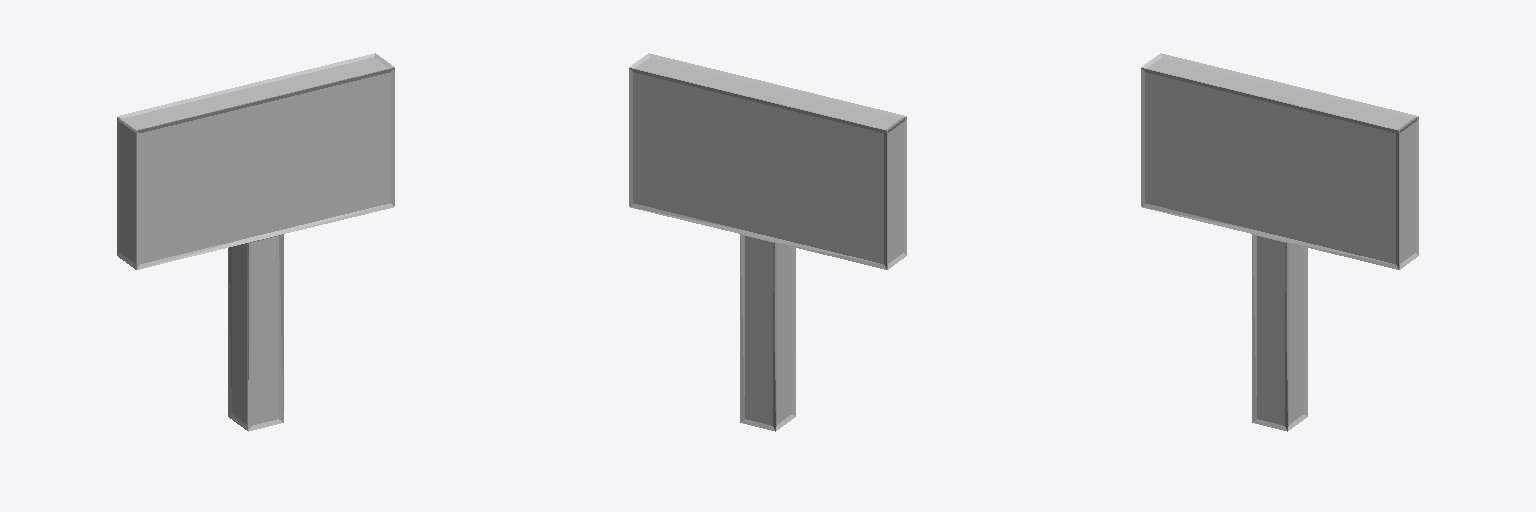
Rendered from sign.obj.
The picture shows the model from 3 angles: view 1: azimuth 30°, elevation 25°; view 2: azimuth 150°, elevation 25°; view 3: azimuth 330°, elevation 25°; orthographic projection.
Visible parts, largest first — view 1: Cube.012, Cube.007; view 2: Cube.012, Cube.007; view 3: Cube.012, Cube.007.
Boxes of the visible parts, x1=… form: Cube.012: x1=120, y1=57, x2=390, y2=425; Cube.007: x1=117, y1=53, x2=394, y2=431; Cube.012: x1=633, y1=57, x2=903, y2=425; Cube.007: x1=629, y1=53, x2=906, y2=431; Cube.012: x1=1145, y1=57, x2=1415, y2=425; Cube.007: x1=1141, y1=53, x2=1418, y2=431.
Size of the model in its own units: 1.02 by 1.23 by 0.1426.